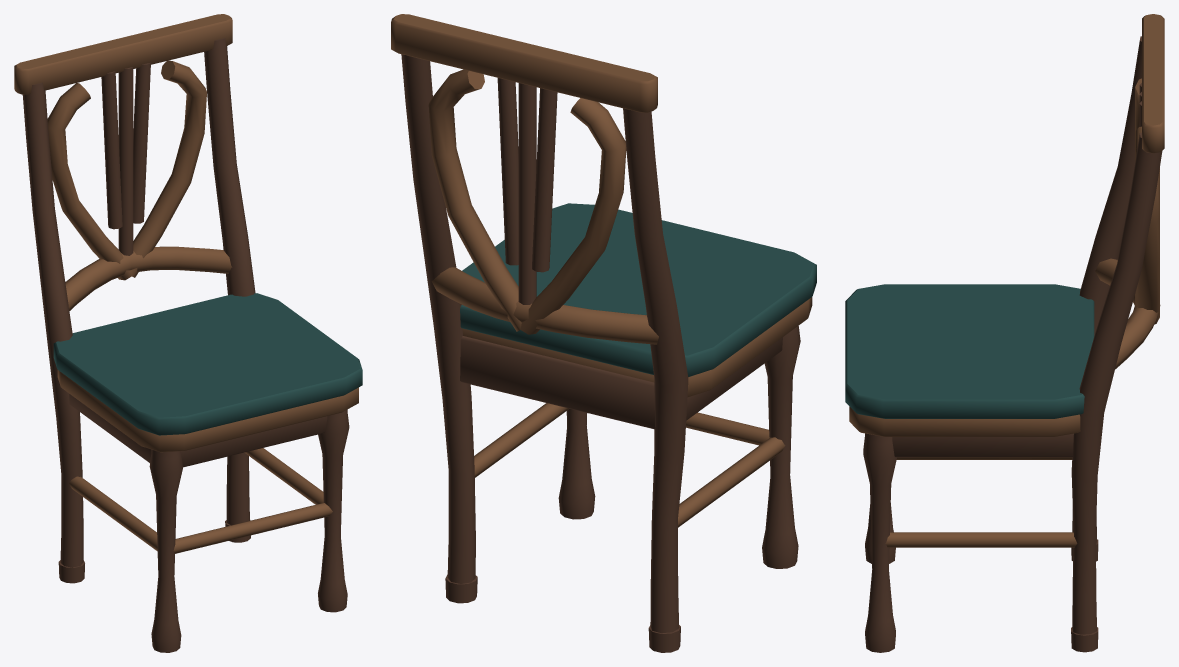
File: rpg-mansion-shield-back-01.glb
3 renders of one model, left to right at view 1: azimuth 30°, elevation 25°; view 2: azimuth 150°, elevation 25°; view 3: azimuth 270°, elevation 25°, orthographic. The views are drawn at different scales.
Parts seen in each view (by area): view 1: rpg-mansion-shield-back-01; view 2: rpg-mansion-shield-back-01; view 3: rpg-mansion-shield-back-01.
Boxes of the visible parts, x1,y1,x2,y2 form: rpg-mansion-shield-back-01: (14,14,362,652); rpg-mansion-shield-back-01: (391,14,816,652); rpg-mansion-shield-back-01: (845,14,1164,652).
Bounding box in the file's own units: 0.442 × 0.94 × 0.51.
